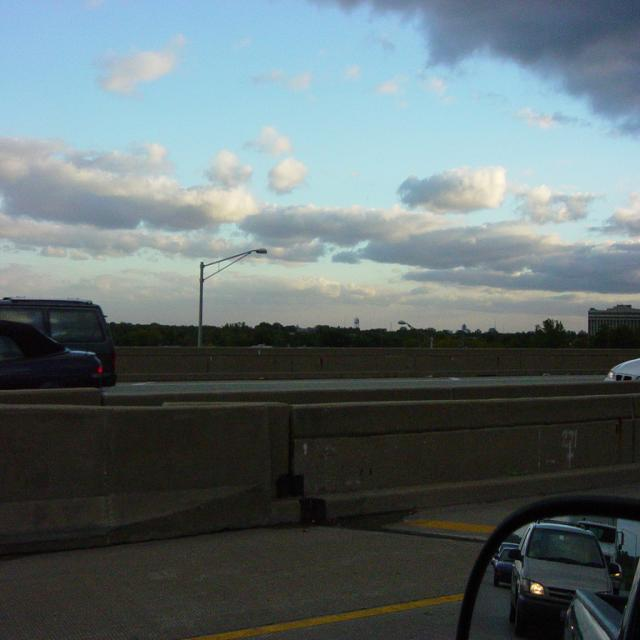car: (507, 516, 620, 638), (491, 535, 520, 587)
